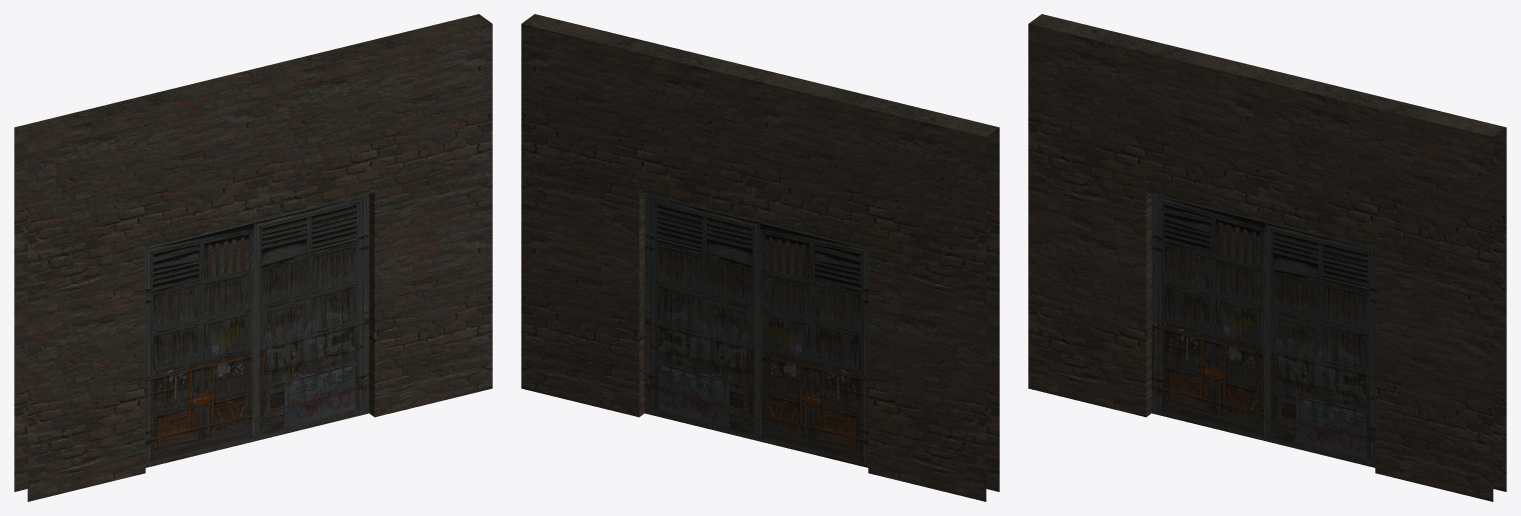
The model's file is garage_door_frame_hr_1.glb.
3 renders of one model, left to right at view 1: azimuth 30°, elevation 25°; view 2: azimuth 150°, elevation 25°; view 3: azimuth 330°, elevation 25°, orthographic.
Parts seen in each view (by area): view 1: garage_door_frame_hr_1, garage_door_hr_2_piece_2, garage_door_hr_2_piece_1; view 2: garage_door_frame_hr_1, garage_door_hr_2_piece_2, garage_door_hr_2_piece_1; view 3: garage_door_frame_hr_1, garage_door_hr_2_piece_1, garage_door_hr_2_piece_2.
Boxes of the visible parts, <box> form: garage_door_frame_hr_1: <box>14,14,492,501</box>; garage_door_hr_2_piece_2: <box>255,194,369,441</box>; garage_door_hr_2_piece_1: <box>145,221,254,467</box>; garage_door_frame_hr_1: <box>521,14,999,501</box>; garage_door_hr_2_piece_2: <box>644,194,758,441</box>; garage_door_hr_2_piece_1: <box>759,221,868,467</box>; garage_door_frame_hr_1: <box>1028,14,1506,501</box>; garage_door_hr_2_piece_1: <box>1151,194,1265,441</box>; garage_door_hr_2_piece_2: <box>1266,221,1375,467</box>.
Bounding box in the file's own units: 8 × 6 × 0.4.
Materials: 3 (3 with a texture image).
